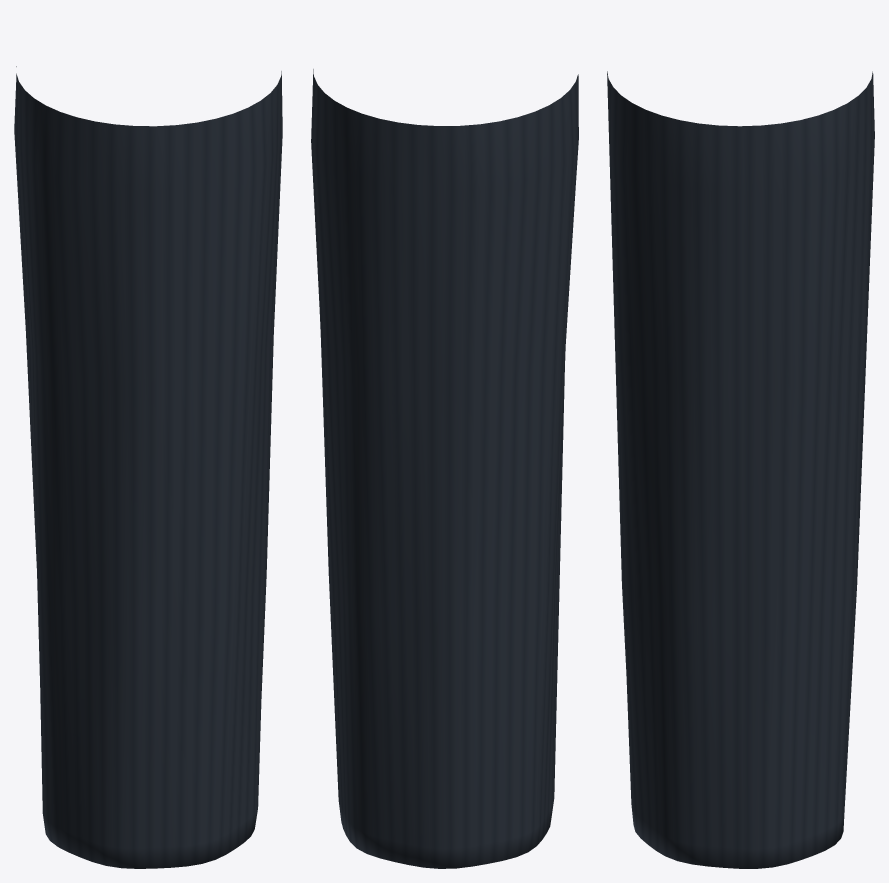
The model's file is reference_sweatpants.gltf.
The picture shows the model from 3 angles, left to right: view 1: azimuth 30°, elevation 25°; view 2: azimuth 150°, elevation 25°; view 3: azimuth 270°, elevation 25°; orthographic projection.
Parts seen in each view (by area): view 1: LegL; view 2: LegL; view 3: LegL.
Boxes of the visible parts, left/top/right/bottom form: LegL: left=14, top=66, right=282, bottom=868; LegL: left=311, top=69, right=578, bottom=868; LegL: left=607, top=71, right=874, bottom=868.
Bounding box in the file's own units: 0.2402 × 0.749 × 0.2397.
1 material, 1 textured.
